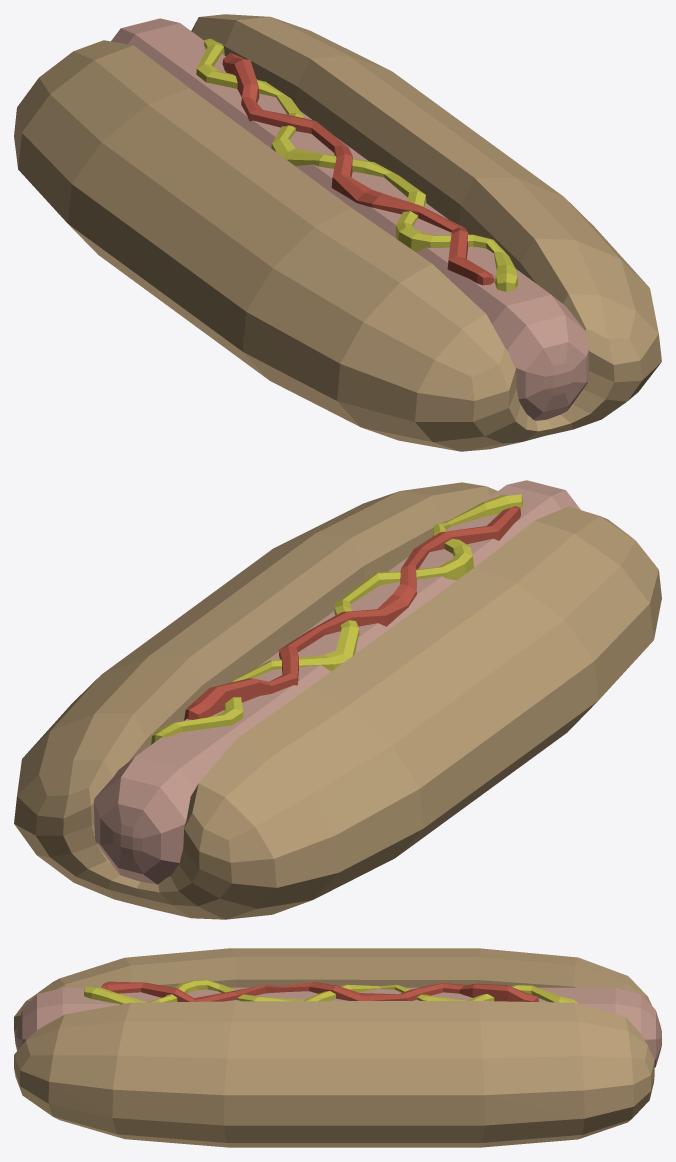
The model's file is Hotdog.gltf.
3 views of the same model, one above another, from view 1: azimuth 30°, elevation 25°; view 2: azimuth 150°, elevation 25°; view 3: azimuth 270°, elevation 25° (orthographic). The views are drawn at different scales.
Parts seen in each view (by area): view 1: Hotdog; view 2: Hotdog; view 3: Hotdog.
Boxes of the visible parts, bbox=[...] form: Hotdog: bbox=[14, 14, 661, 451]; Hotdog: bbox=[14, 480, 661, 919]; Hotdog: bbox=[14, 948, 661, 1147].
Bounding box in the file's own units: 0.1571 × 0.0819 × 0.3324.
